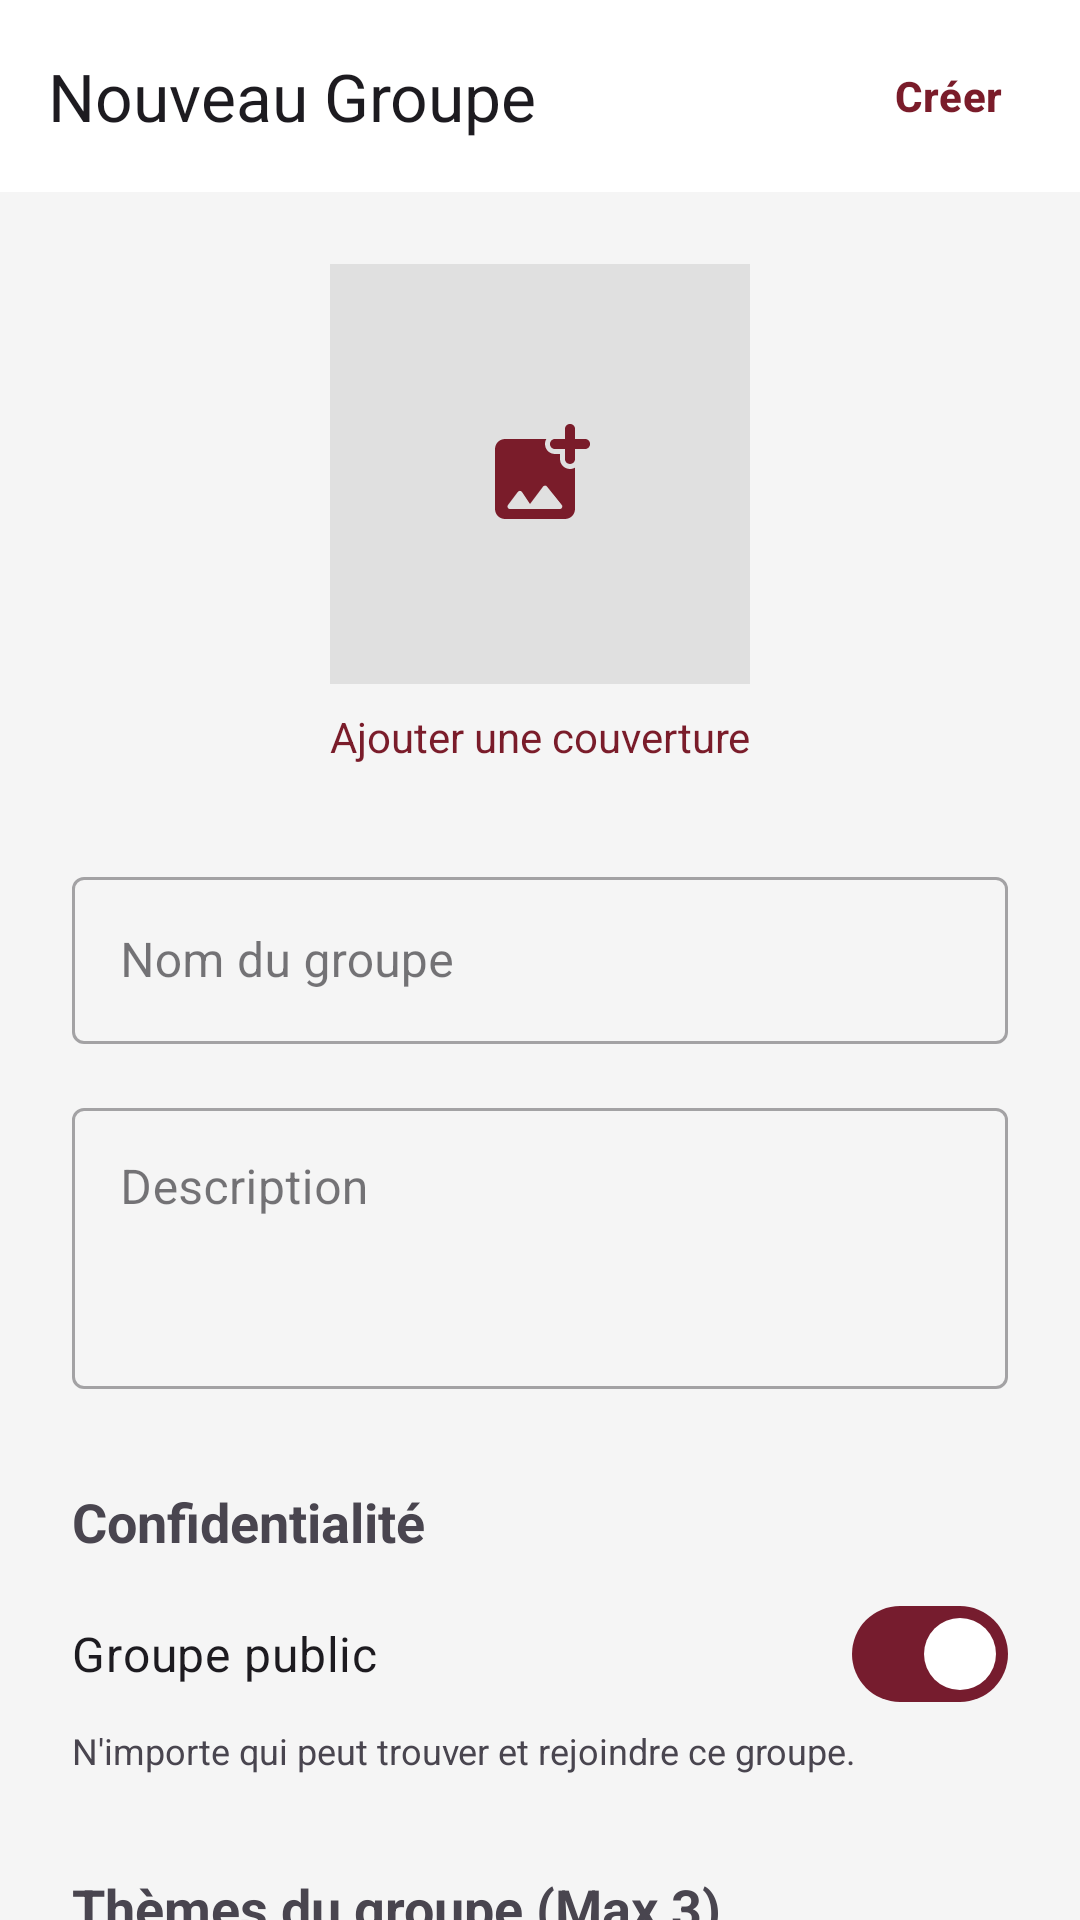

Screen size 1080 × 1920. Icon name, then its box in pixels as bbox=(x1, y1, x2, y2):
add photo alternate: bbox=(495, 424, 590, 519)
